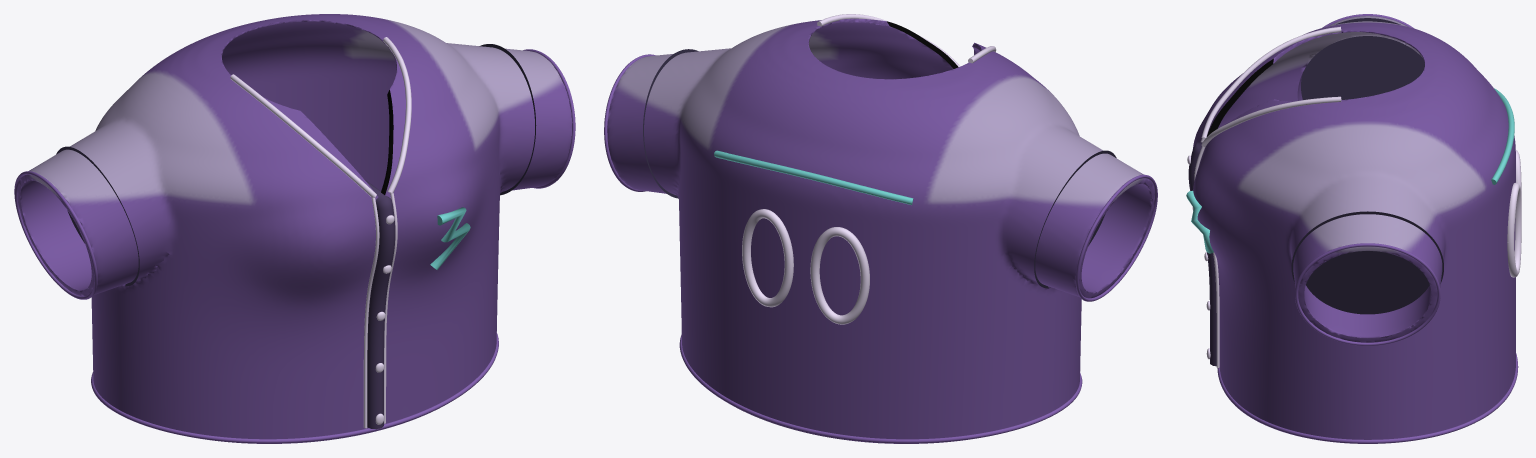
Rendered from Feminine-jersey-top.glb.
3 views of the same model, side by side, from view 1: azimuth 30°, elevation 25°; view 2: azimuth 150°, elevation 25°; view 3: azimuth 270°, elevation 25° (orthographic). The views are drawn at different scales.
Visible parts, largest first — view 1: Clothing / jersey, Jersey / button placket export, Shirt / hem export, Sleeve / open cuff -1 export, Jersey / V piping export, Jersey / V piping.001 export, Jersey / placket piping export, Jersey / chest signal export, Sleeve / open cuff 1 export, Jersey / placket piping.001 export; view 2: Clothing / jersey, Jersey / back 00 export, Shirt / hem export, Jersey / back 00.001 export, Jersey / back yoke accent export, Sleeve / open cuff -1 export, Sleeve / open cuff 1 export; view 3: Clothing / jersey, Sleeve / recessed facing 1, Sleeve / recessed facing -1, Shirt / hem export, Sleeve / open cuff 1 export, Jersey / back 00.001 export, Jersey / button placket export, Jersey / V piping export, Jersey / V piping.001 export, Jersey / back yoke accent export, Jersey / placket piping.001 export, Jersey / chest signal export.
Boxes of the visible parts, box(x1,y1,x2,y2) form: Clothing / jersey: box(17, 14, 572, 443); Jersey / button placket export: box(363, 178, 395, 429); Shirt / hem export: box(91, 332, 498, 443); Sleeve / open cuff -1 export: box(14, 171, 97, 299); Jersey / V piping export: box(230, 74, 376, 197); Jersey / V piping.001 export: box(383, 37, 411, 193); Jersey / placket piping export: box(363, 197, 379, 428); Jersey / chest signal export: box(430, 207, 470, 269); Sleeve / open cuff 1 export: box(523, 49, 575, 188); Jersey / placket piping.001 export: box(384, 192, 397, 423); Clothing / jersey: box(607, 18, 1154, 443); Jersey / back 00 export: box(810, 227, 869, 324); Shirt / hem export: box(679, 334, 1082, 443); Jersey / back 00.001 export: box(742, 209, 793, 307); Jersey / back yoke accent export: box(714, 150, 913, 204); Sleeve / open cuff -1 export: box(1075, 174, 1157, 301); Sleeve / open cuff 1 export: box(604, 54, 655, 191); Clothing / jersey: box(1192, 16, 1515, 439); Sleeve / recessed facing 1: box(1291, 211, 1443, 314); Sleeve / recessed facing -1: box(1301, 18, 1424, 99); Shirt / hem export: box(1217, 353, 1518, 443); Sleeve / open cuff 1 export: box(1295, 243, 1440, 345); Jersey / back 00.001 export: box(1507, 182, 1521, 277); Jersey / button placket export: box(1188, 142, 1219, 366); Jersey / V piping export: box(1201, 26, 1341, 138); Jersey / V piping.001 export: box(1201, 96, 1341, 147); Jersey / back yoke accent export: box(1491, 88, 1514, 184); Jersey / placket piping.001 export: box(1194, 146, 1219, 367); Jersey / chest signal export: box(1186, 190, 1213, 253).
Size of the model in its own units: 0.9725 by 0.6048 by 0.5978.
